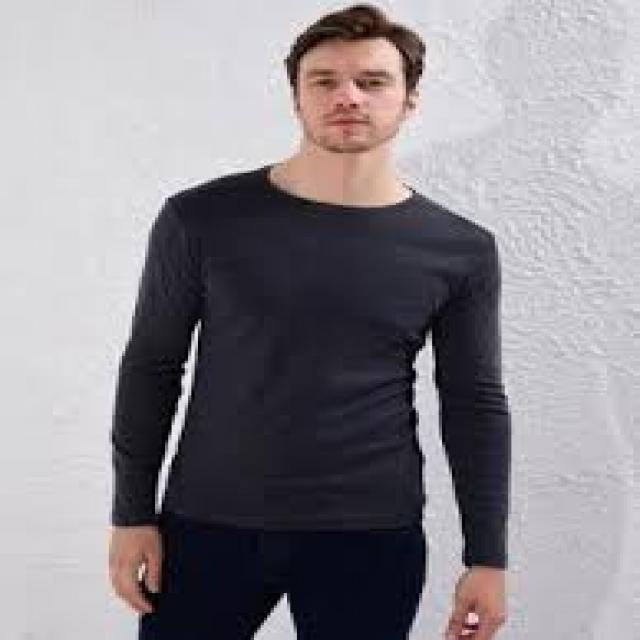plain: (116, 165, 514, 539)
